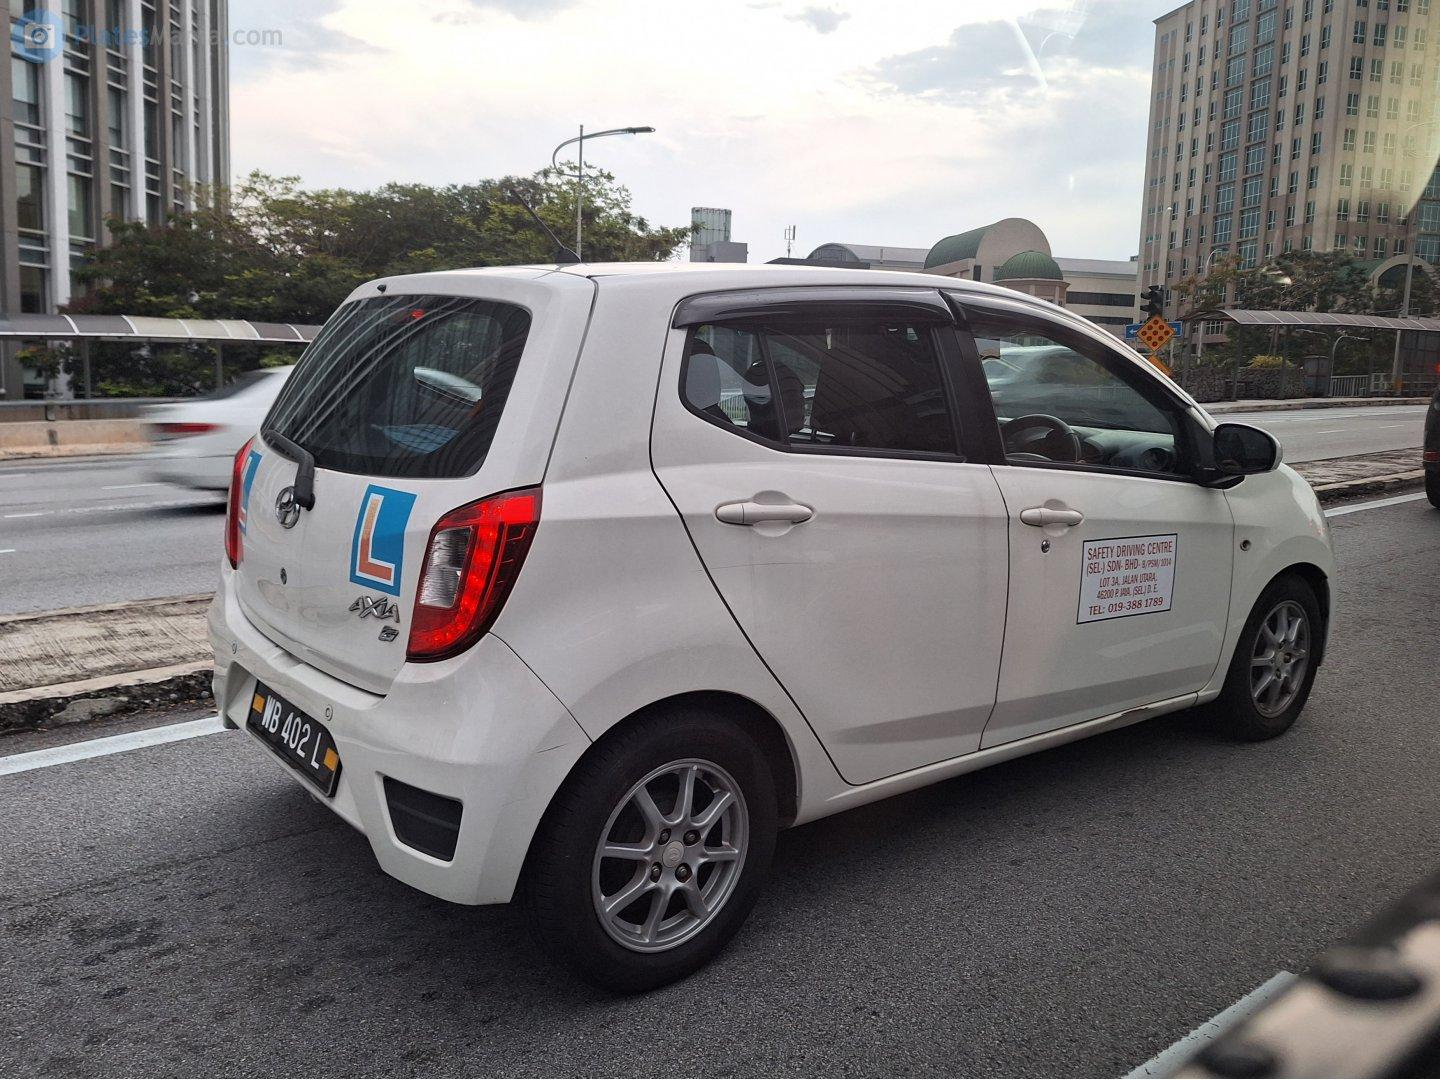License Plate: (246, 684, 339, 793)
